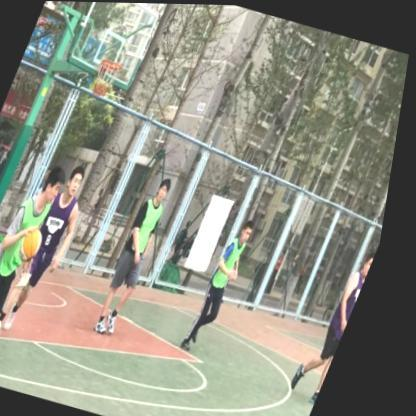basketball: (22, 226, 53, 264)
